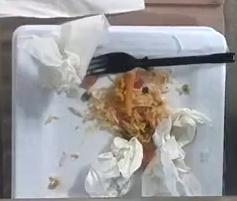rice_mix: (89, 68, 166, 142)
